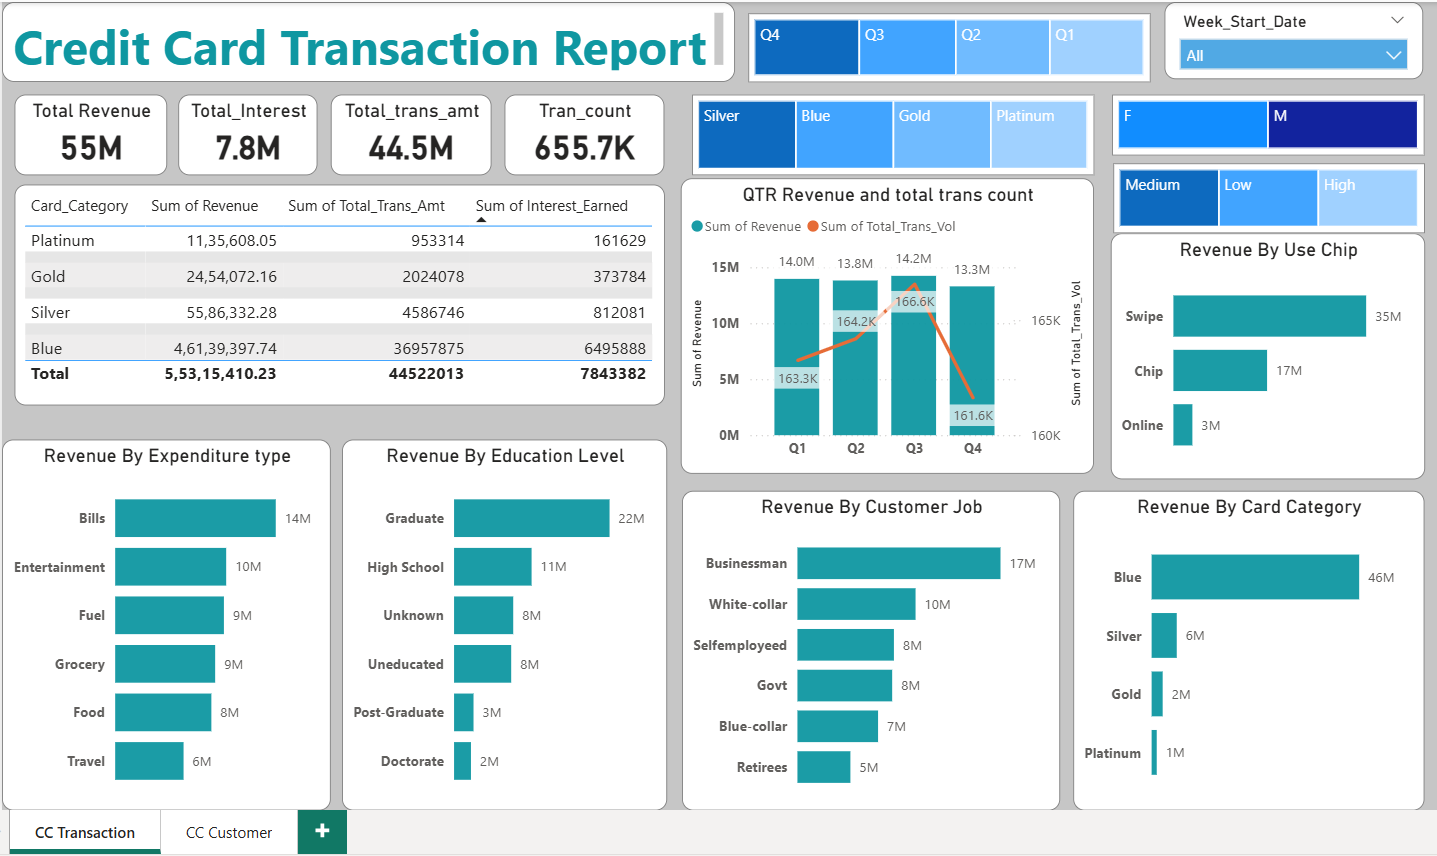

This screenshot's page, from the dashboard's own definition file:
{"tool":"powerbi","page":{"name":"CC Transaction","canvas":[1280,720],"ordinal":0},"visuals":[{"type":"textbox","box":[0,0,652.7,71.2],"z":0},{"type":"lineStackedColumnComboChart","title":"QTR Revenue and total trans count","fields":{"Category":["credit_card.Qtr"],"Y":["Sum(credit_card.Revenue)"],"Y2":["Sum(credit_card.Total_Trans_Vol)"]},"box":[604.7,157.3,368,263],"z":1000},{"type":"barChart","title":"Revenue By Expenditure type","fields":{"Y":["Sum(credit_card.Revenue)"],"Category":["credit_card.Exp Type"]},"box":[0,389.7,293.2,330.6],"z":2000},{"type":"barChart","title":"Revenue By Education Level","fields":{"Y":["Sum(credit_card.Revenue)"],"Category":["customer.Education_Level"]},"box":[302.8,389.7,289.5,330.6],"z":3000},{"type":"barChart","title":"Revenue By Customer Job","fields":{"Y":["Sum(credit_card.Revenue)"],"Category":["customer.Customer_Job"]},"box":[605.6,435.5,336.6,284.7],"z":4000},{"type":"barChart","title":"Revenue By Card Category","fields":{"Y":["Sum(credit_card.Revenue)"],"Category":["credit_card.Card_Category"]},"box":[954.3,435.5,312.5,284.7],"z":5000},{"type":"barChart","title":"Revenue By Use Chip","fields":{"Y":["Sum(credit_card.Revenue)"],"Category":["credit_card.Use Chip"]},"box":[986.9,206.3,279.9,219.6],"z":6000},{"type":"tableEx","fields":{"Values":["credit_card.Card_Category","Sum(credit_card.Revenue)","Sum(credit_card.Total_Trans_Amt)","Sum(credit_card.Interest_Earned)"]},"box":[10.9,162.9,579.1,196.6],"z":7000},{"type":"card","title":"Total Revenue","fields":{"Values":["Sum(credit_card.Revenue)"]},"box":[10.9,82,136.3,72.4],"z":8000},{"type":"card","title":"Total_Interest","fields":{"Values":["Sum(credit_card.Interest_Earned)"]},"box":[156.8,82,124.3,72.4],"z":9000},{"type":"card","title":"Tran_count","fields":{"Values":["Sum(credit_card.Total_Trans_Vol)"]},"box":[447.6,82,142.4,72.4],"z":10000},{"type":"card","title":"Total_trans_amt","fields":{"Values":["Sum(credit_card.Total_Trans_Amt)"]},"box":[293.2,82,143.6,72.4],"z":11000},{"type":"slicer","fields":{"Values":["credit_card.Week_Start_Date"]},"box":[1035.1,0,230.4,68.8],"z":12000},{"type":"treemap","fields":{"Group":["credit_card.Qtr"],"Values":["Avg(credit_card.Client_Num)"]},"box":[664.7,9.7,358.3,61.5],"z":13000},{"type":"treemap","fields":{"Values":["Avg(credit_card.Client_Num)"],"Group":["customer.Gender"]},"box":[988.1,82,278.7,54.3],"z":14000},{"type":"treemap","fields":{"Group":["credit_card.Card_Category"],"Values":["Avg(credit_card.Client_Num)"]},"box":[614.1,82,358.3,72.4],"z":15000},{"type":"treemap","fields":{"Group":["customer.IncomeGroup"],"Values":["Avg(credit_card.Client_Num)"]},"box":[989.3,143.6,277.5,62.7],"z":16000}]}

Visuals, with their boxes on the page's 1280x720 design canvas (x1, y1, x2, y2). These are canvas units, not pixel positions in the 1437x856 screenshot, which may show the page scaled, cropped or inside an application window:
textbox: bbox=(0, 0, 653, 71)
"QTR Revenue and total trans count" lineStackedColumnComboChart: bbox=(605, 157, 973, 420)
"Revenue By Expenditure type" barChart: bbox=(0, 390, 293, 720)
"Revenue By Education Level" barChart: bbox=(303, 390, 592, 720)
"Revenue By Customer Job" barChart: bbox=(606, 436, 942, 720)
"Revenue By Card Category" barChart: bbox=(954, 436, 1267, 720)
"Revenue By Use Chip" barChart: bbox=(987, 206, 1267, 426)
tableEx - credit_card.Card_Category x Sum(credit_card.Revenue): bbox=(11, 163, 590, 360)
"Total Revenue" card: bbox=(11, 82, 147, 154)
"Total_Interest" card: bbox=(157, 82, 281, 154)
"Tran_count" card: bbox=(448, 82, 590, 154)
"Total_trans_amt" card: bbox=(293, 82, 437, 154)
slicer - credit_card.Week_Start_Date: bbox=(1035, 0, 1266, 69)
treemap - credit_card.Qtr x Avg(credit_card.Client_Num): bbox=(665, 10, 1023, 71)
treemap - Avg(credit_card.Client_Num) x customer.Gender: bbox=(988, 82, 1267, 136)
treemap - credit_card.Card_Category x Avg(credit_card.Client_Num): bbox=(614, 82, 972, 154)
treemap - customer.IncomeGroup x Avg(credit_card.Client_Num): bbox=(989, 144, 1267, 206)
